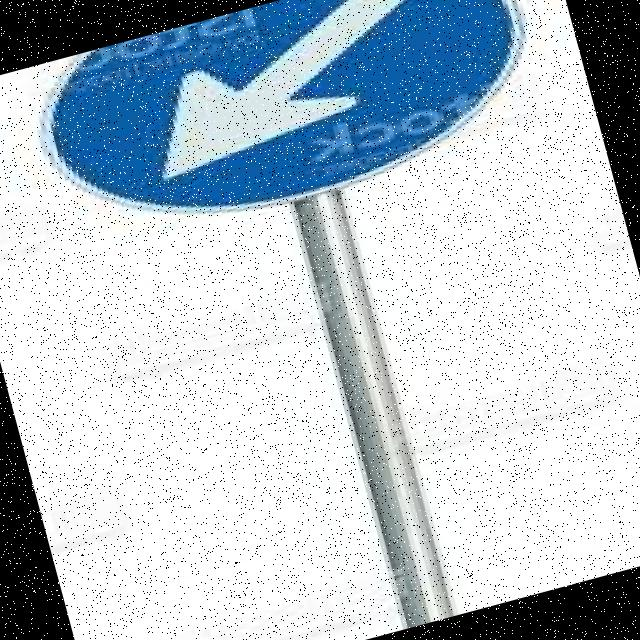compulsory_keep_right: (6, 0, 568, 275)
